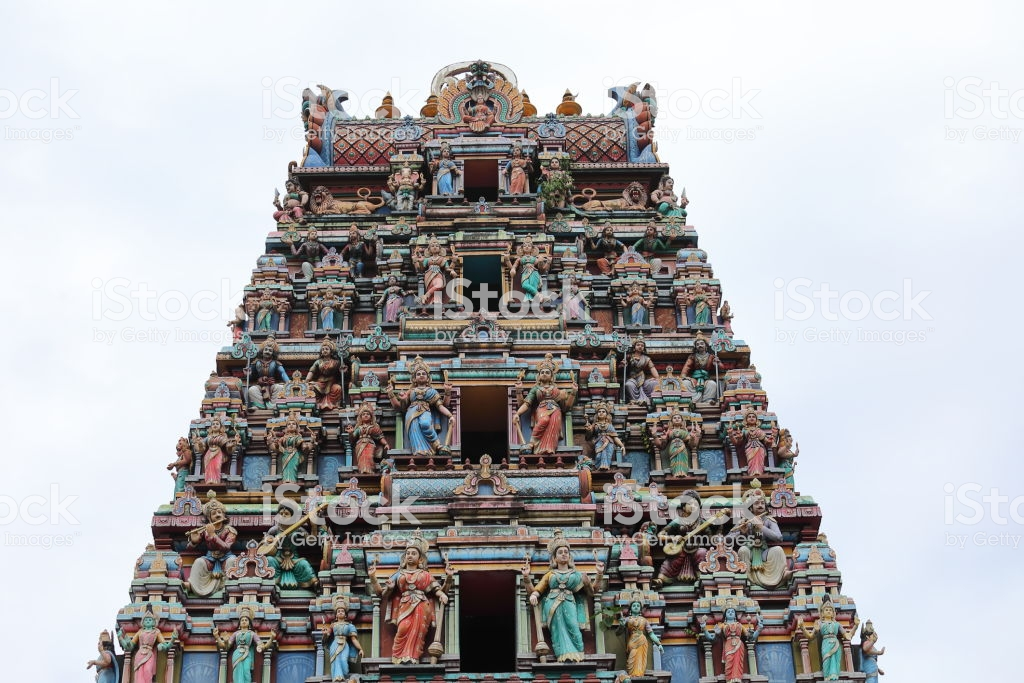Hindu Temple: (168, 48, 849, 681)
